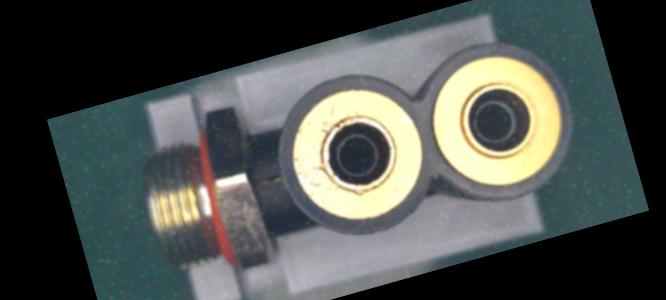craze: (253, 169, 284, 191)
